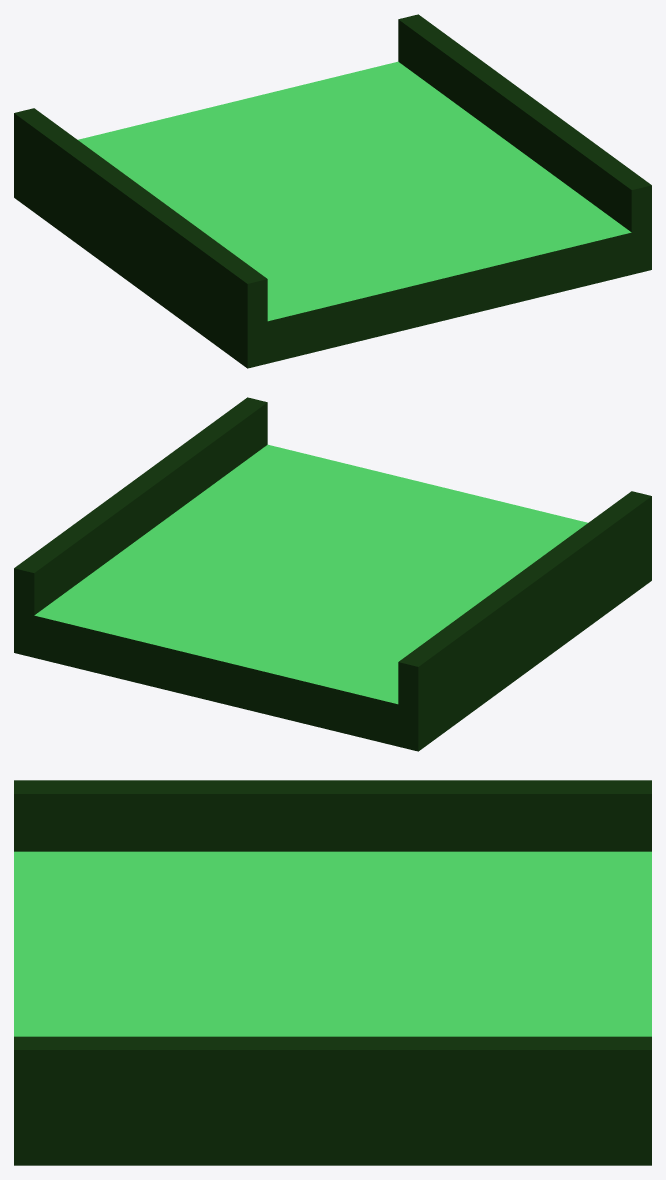
Rendered from MG Straight.fbx.
3 renders of one model, top to bottom at view 1: azimuth 30°, elevation 25°; view 2: azimuth 150°, elevation 25°; view 3: azimuth 270°, elevation 25°, orthographic. The views are drawn at different scales.
Parts seen in each view (by area): view 1: MG Straight; view 2: MG Straight; view 3: MG Straight.
Boxes of the visible parts, x1,y1,x2,y2 form: MG Straight: (14, 14, 651, 368); MG Straight: (14, 397, 651, 751); MG Straight: (14, 780, 651, 1165).
Size of the model in its own units: 200 by 40 by 200.
